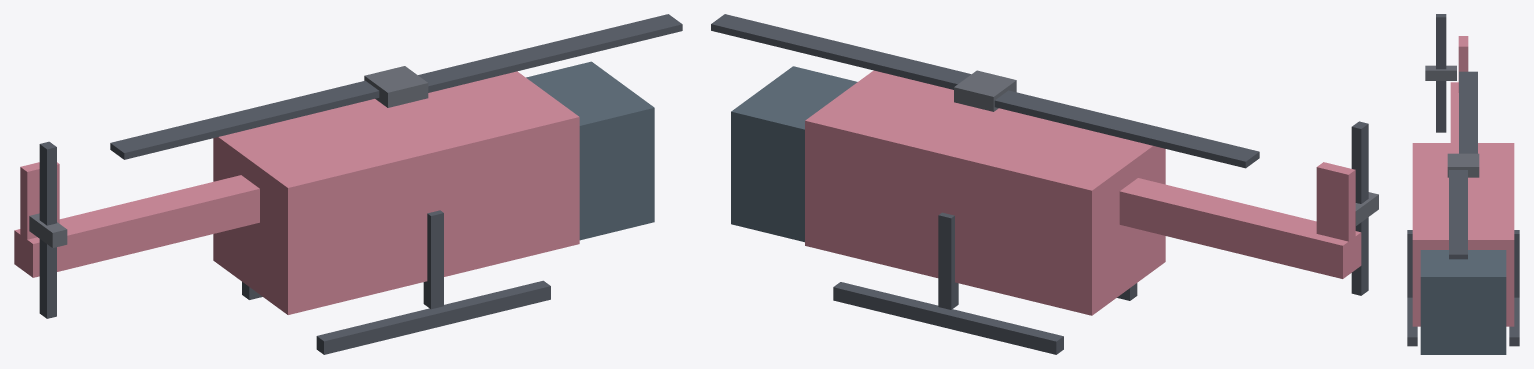
Rendered from helicopter_sell.glb.
The picture shows the model from 3 angles, left to right: view 1: azimuth 30°, elevation 25°; view 2: azimuth 150°, elevation 25°; view 3: azimuth 270°, elevation 25°; orthographic projection. The views are drawn at different scales.
Parts seen in each view (by area): view 1: body, rotor, tailRotor; view 2: body, rotor, tailRotor; view 3: body, rotor, tailRotor.
Boxes of the visible parts, box(x1,y1,x2,y2) form: body: box(14, 61, 654, 354); rotor: box(110, 14, 682, 159); tailRotor: box(29, 141, 67, 318); body: box(731, 66, 1361, 354); rotor: box(711, 14, 1259, 168); tailRotor: box(1351, 121, 1378, 295); body: box(1407, 36, 1519, 354); rotor: box(1447, 71, 1479, 259); tailRotor: box(1425, 14, 1456, 132).
Bounding box in the file's own units: 8 × 2.98 × 1.76.
